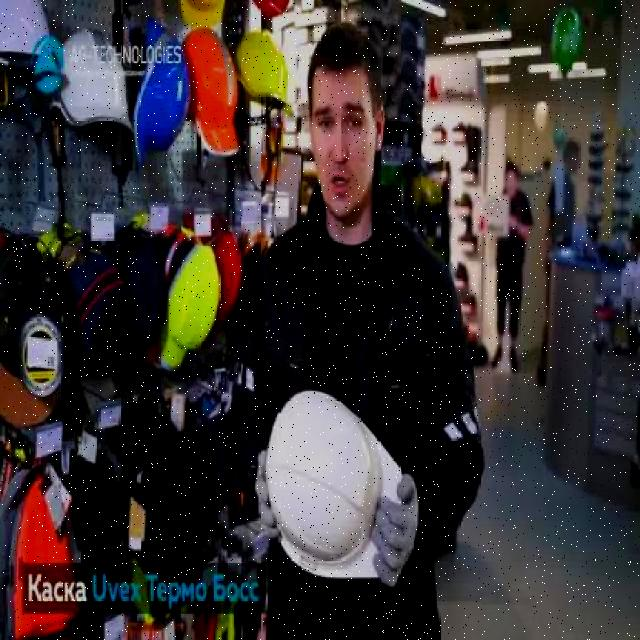Gloves: (368, 469, 421, 588), (253, 445, 281, 541)
Helmet: (264, 386, 406, 585), (129, 17, 194, 178), (52, 24, 134, 132), (182, 28, 240, 156), (233, 29, 296, 120), (0, 0, 62, 82)
